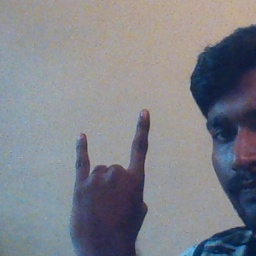V: (67, 107, 156, 251)
